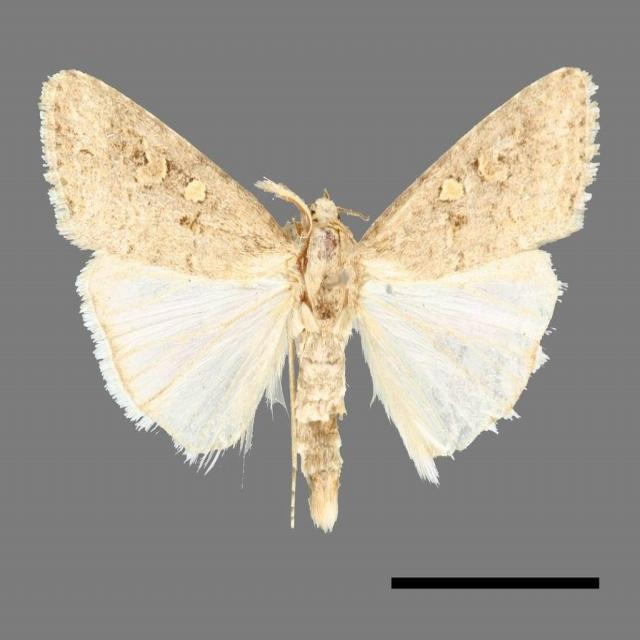BeetArmyWorm-Adult-: (26, 27, 628, 554)
